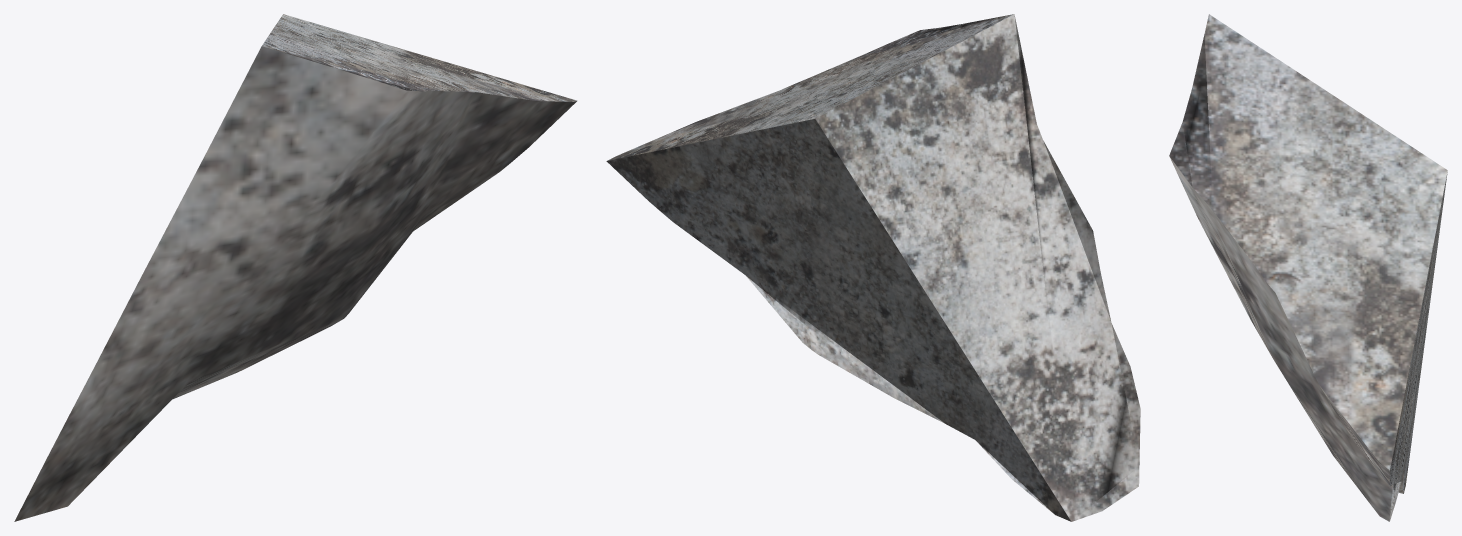
Rendered from Asteroid_Large_001_02_004.fbx.
3 views of the same model, side by side, from view 1: azimuth 30°, elevation 25°; view 2: azimuth 150°, elevation 25°; view 3: azimuth 270°, elevation 25° (orthographic). The views are drawn at different scales.
Visible parts, largest first — view 1: Asteroid_Large_001_02_004; view 2: Asteroid_Large_001_02_004; view 3: Asteroid_Large_001_02_004.
Boxes of the visible parts, x1,y1,x2,y2 form: Asteroid_Large_001_02_004: (14, 14, 577, 521); Asteroid_Large_001_02_004: (606, 14, 1140, 521); Asteroid_Large_001_02_004: (1169, 14, 1447, 521).
Bounding box in the file's own units: 17.81 × 14.11 × 6.4.
